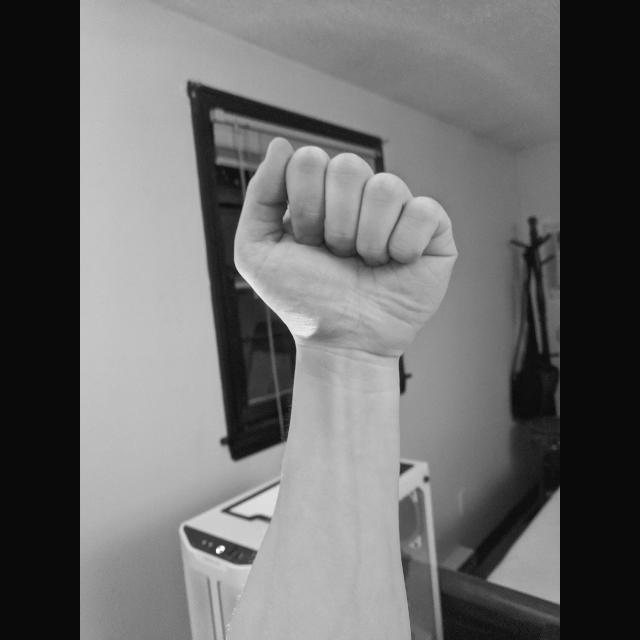A: (228, 131, 466, 375)
